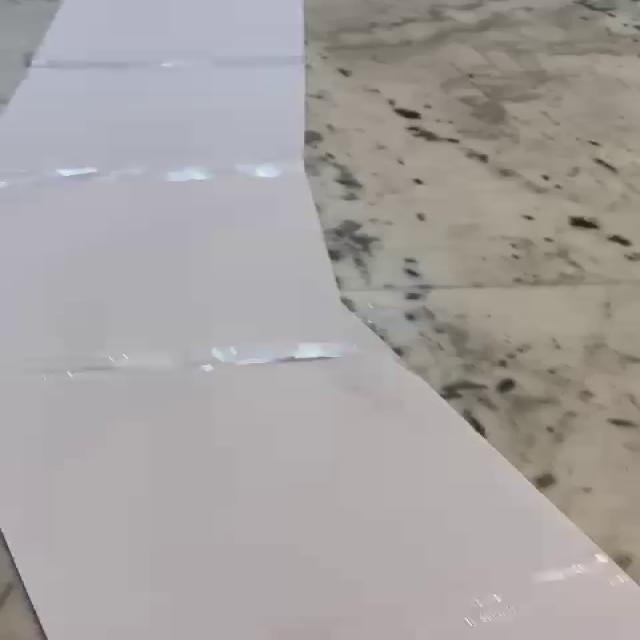road: (0, 0, 640, 640)
